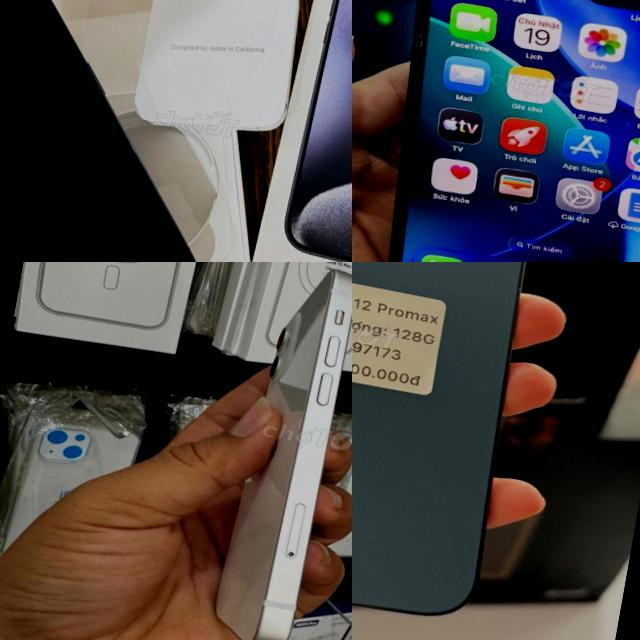gen_12_13: (352, 262, 565, 637), (352, 0, 640, 262), (207, 262, 352, 640)
gen_15: (0, 0, 247, 262)
